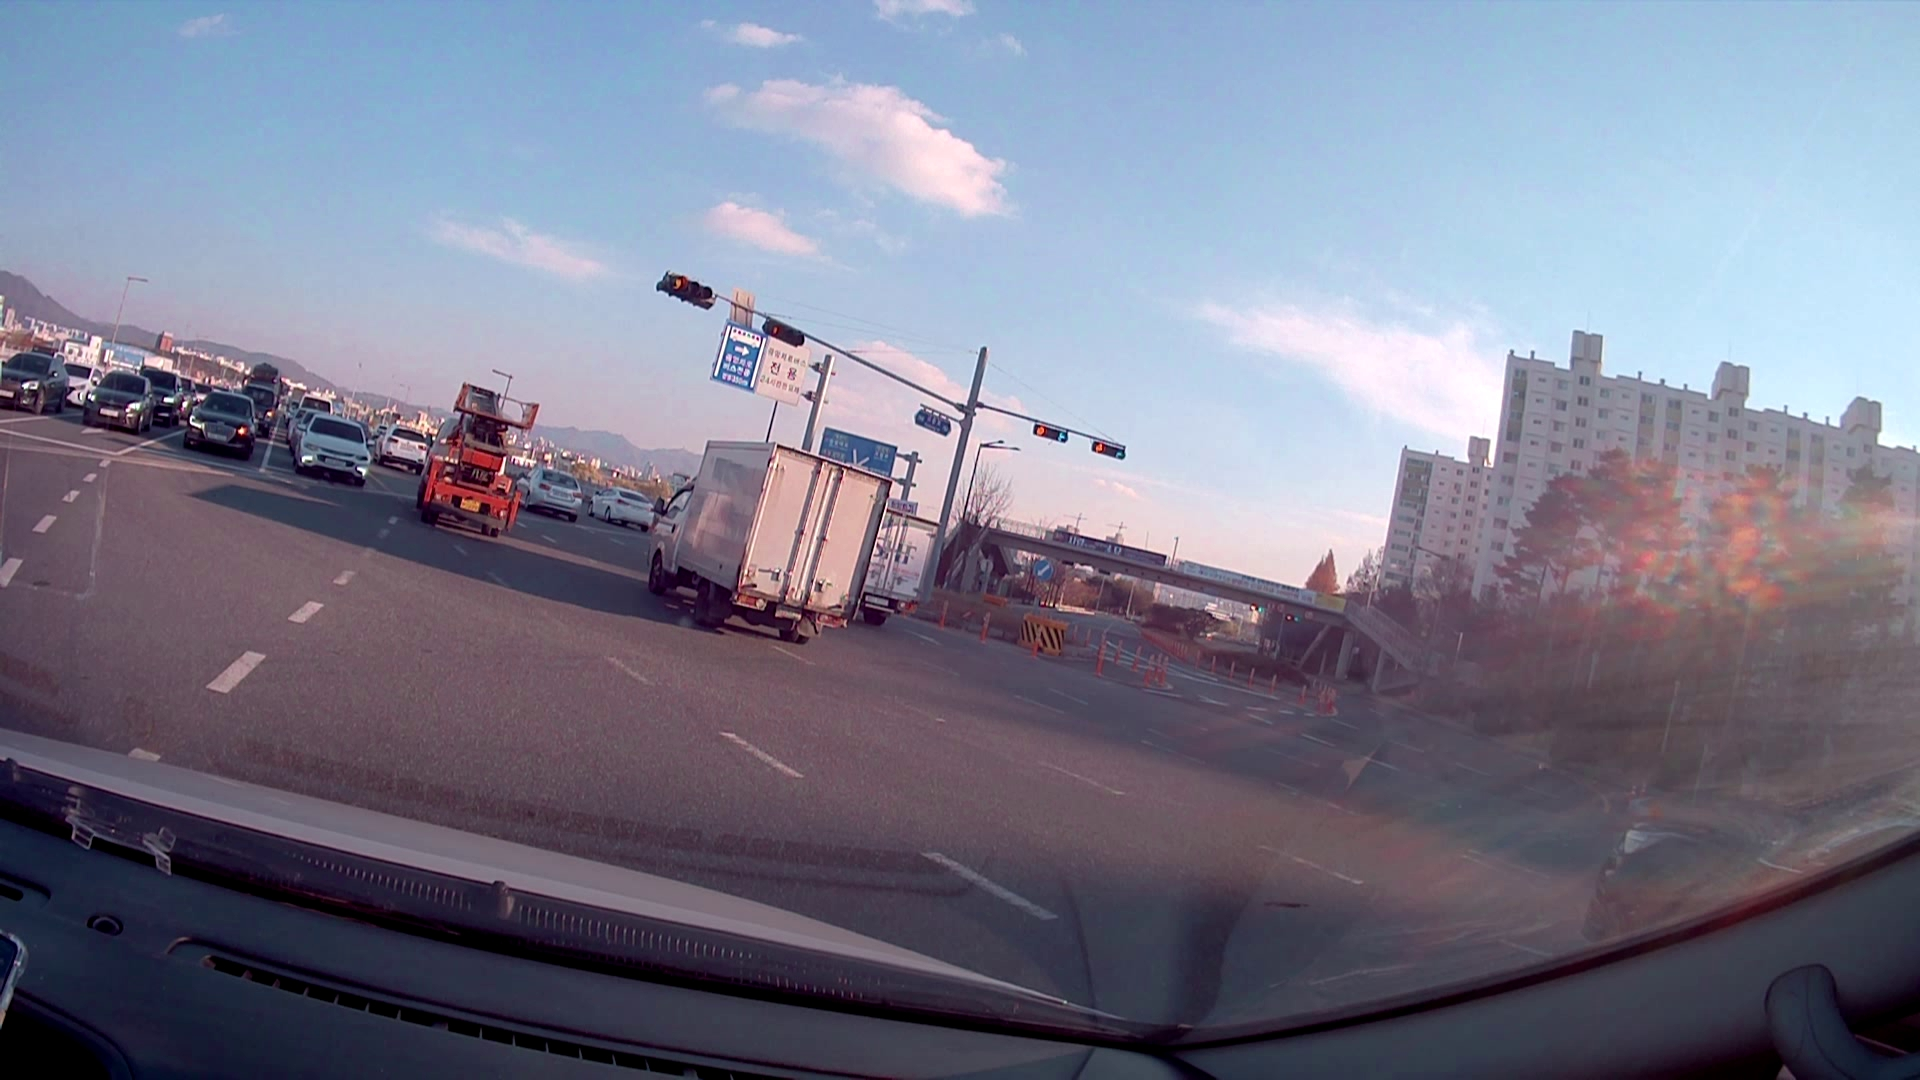trafficLight: (657, 266, 719, 310), (766, 314, 806, 349), (1031, 419, 1069, 444), (1093, 442, 1122, 464)
